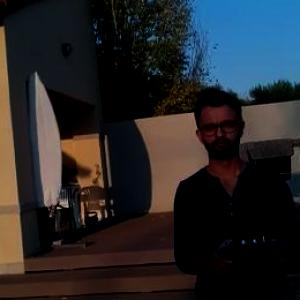follow: (167, 85, 300, 299)
